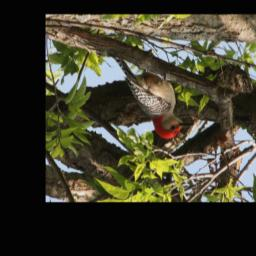Woodpecker: (109, 54, 195, 142)
